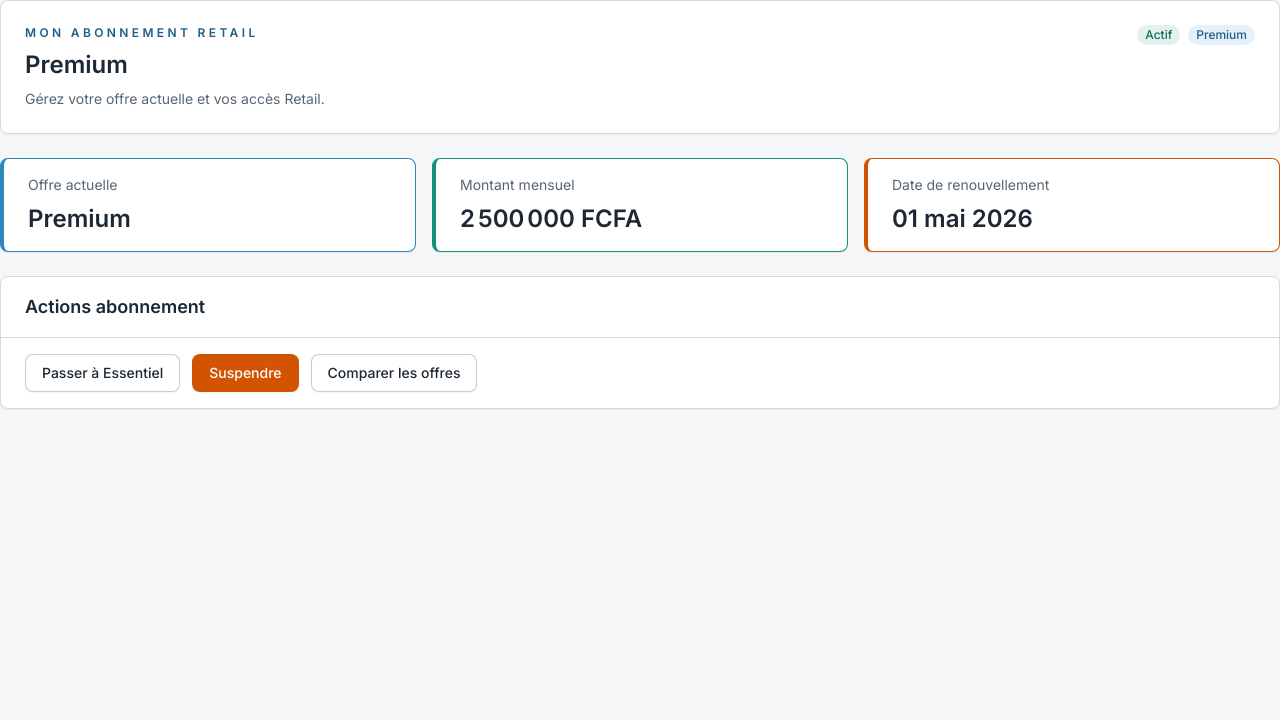
Test: MonAbonnement › affiche le message RM-104 pour le downgrade
Click the button "Passer à Essentiel": (103, 373) [25,354,180,392]
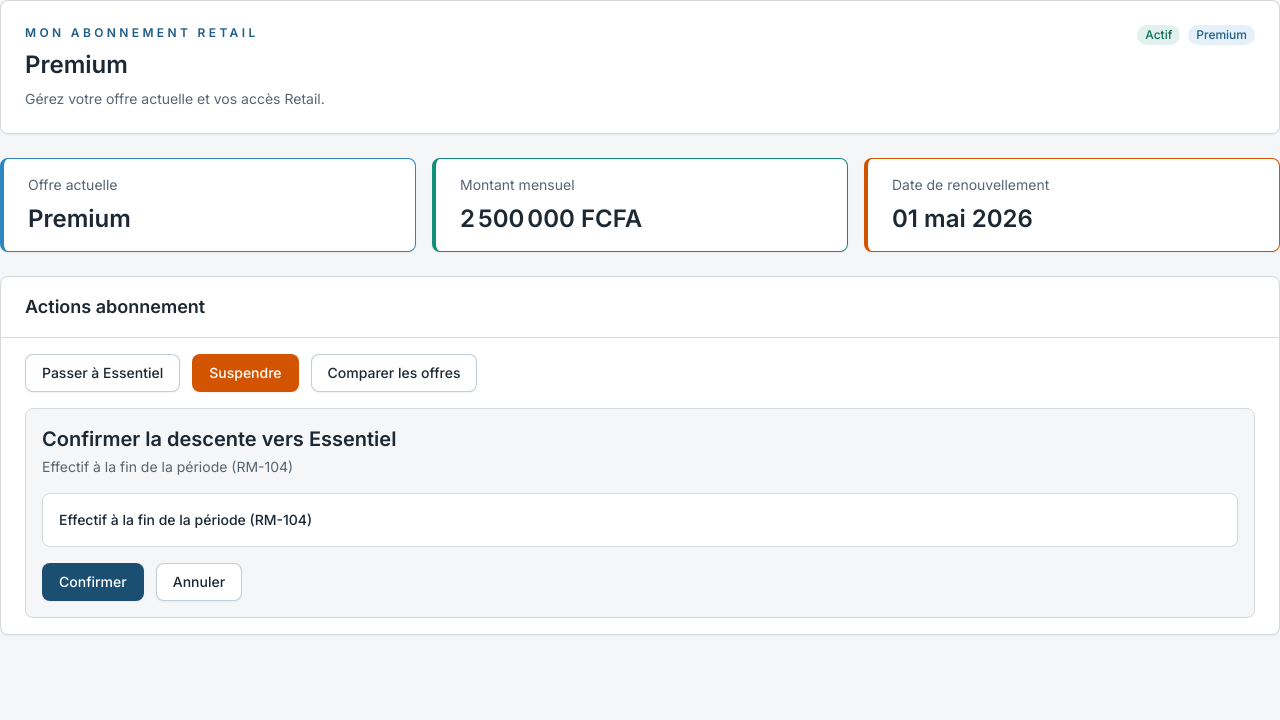
Expected: the 1st text "Effectif à la fin de la période (RM-104)" is shown, [42,458,293,475]
